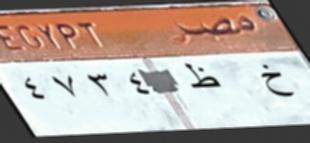3: (85, 70, 110, 103)
4: (22, 75, 46, 105), (127, 69, 148, 101)
7: (50, 72, 77, 104)
Thaa: (179, 60, 222, 96)
khaa: (257, 60, 297, 103)
